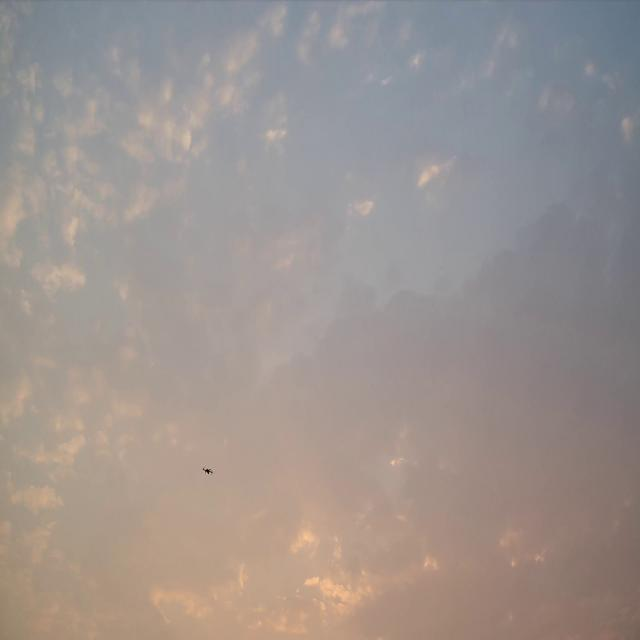drone: (202, 467, 212, 475)
